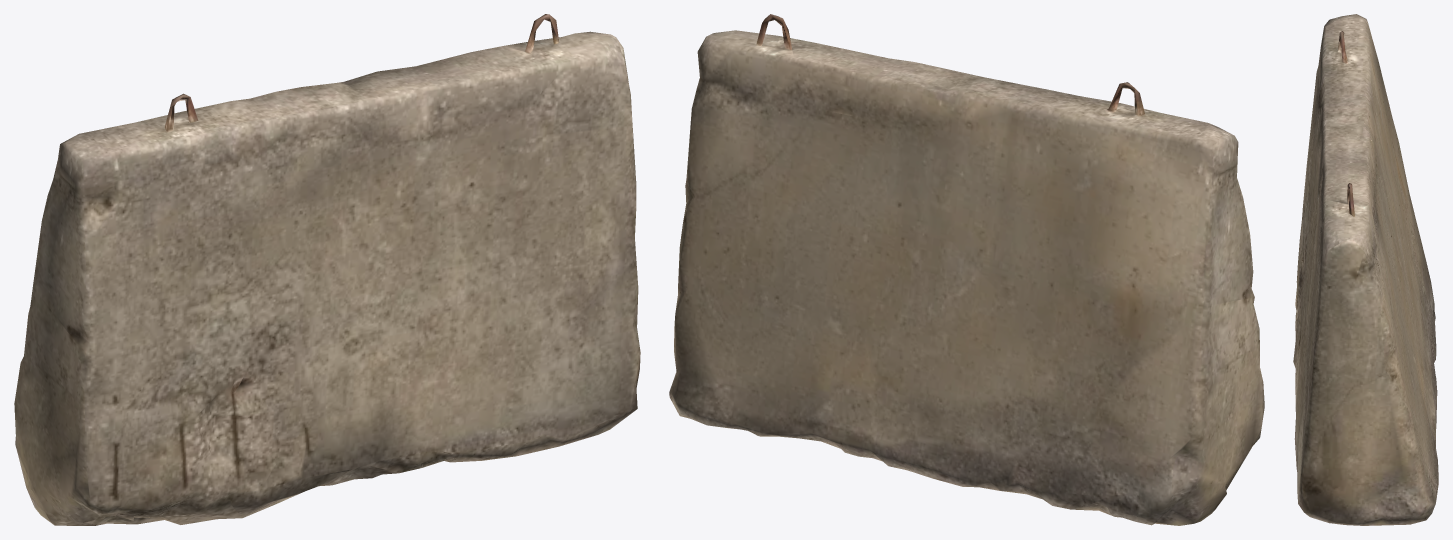
Rendered from concrete_road_barrier_02.glb.
3 renders of one model, left to right at view 1: azimuth 30°, elevation 25°; view 2: azimuth 150°, elevation 25°; view 3: azimuth 270°, elevation 25°, orthographic. The views are drawn at different scales.
Visible parts, largest first — view 1: concrete_road_barrier_02; view 2: concrete_road_barrier_02; view 3: concrete_road_barrier_02.
Part boxes in pixels (box(x1,y1,x2,y2)): concrete_road_barrier_02: box(14, 14, 640, 525); concrete_road_barrier_02: box(669, 14, 1264, 525); concrete_road_barrier_02: box(1293, 14, 1438, 525).
Size of the model in its own units: 1.56 by 1.11 by 0.4418.
1 material, 1 textured.
